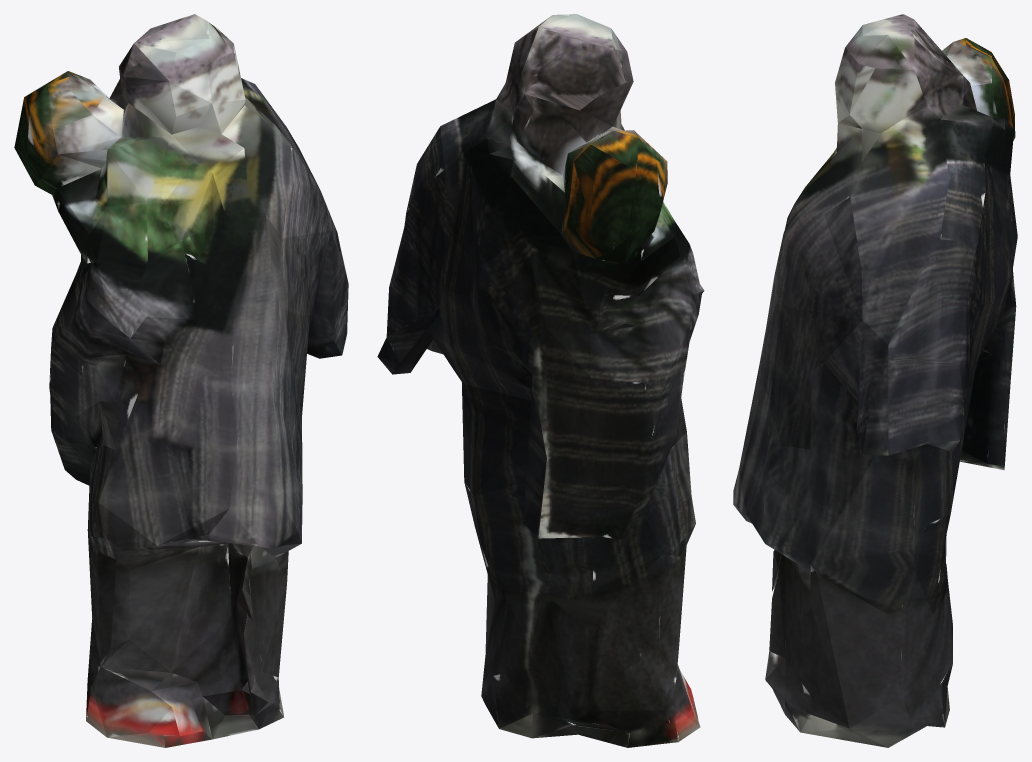
Rendered from kakashi_08b.fbx.
3 renders of one model, left to right at view 1: azimuth 30°, elevation 25°; view 2: azimuth 150°, elevation 25°; view 3: azimuth 270°, elevation 25°, orthographic. The views are drawn at different scales.
Visible parts, largest first — view 1: MeshS; view 2: MeshS; view 3: MeshS.
Boxes of the visible parts, left/top/right/bottom form: MeshS: left=14, top=14, right=348, bottom=747; MeshS: left=377, top=14, right=704, bottom=747; MeshS: left=733, top=14, right=1017, bottom=747.
Size of the model in its own units: 11.11 by 25.31 by 9.59.
1 material, 1 textured.
